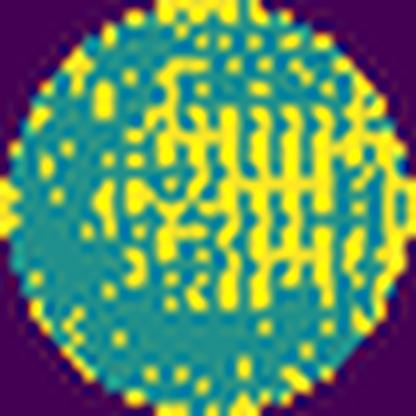Random: (85, 41, 415, 321)
